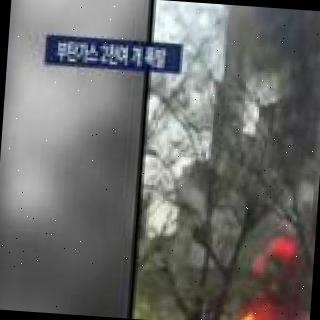fire: (204, 296, 281, 320)
